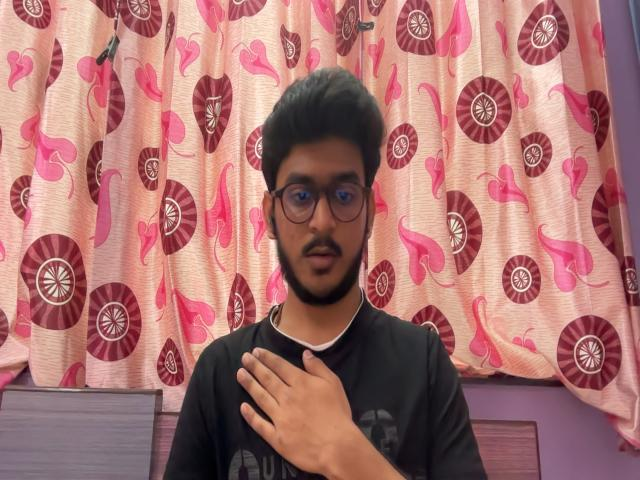Please: (232, 338, 368, 480)
